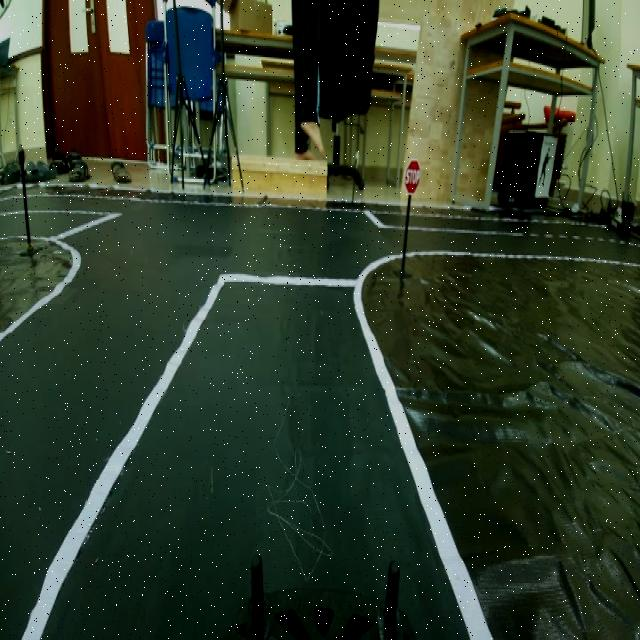stop: (397, 155, 427, 198)
